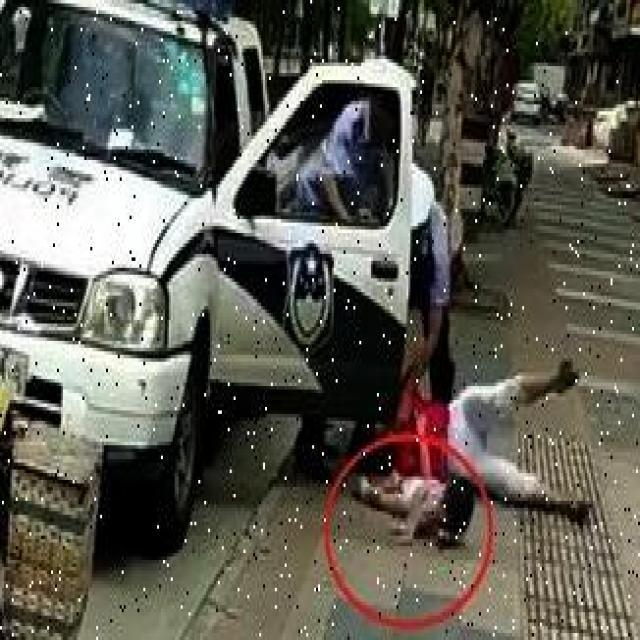fall: (375, 382, 603, 526)
